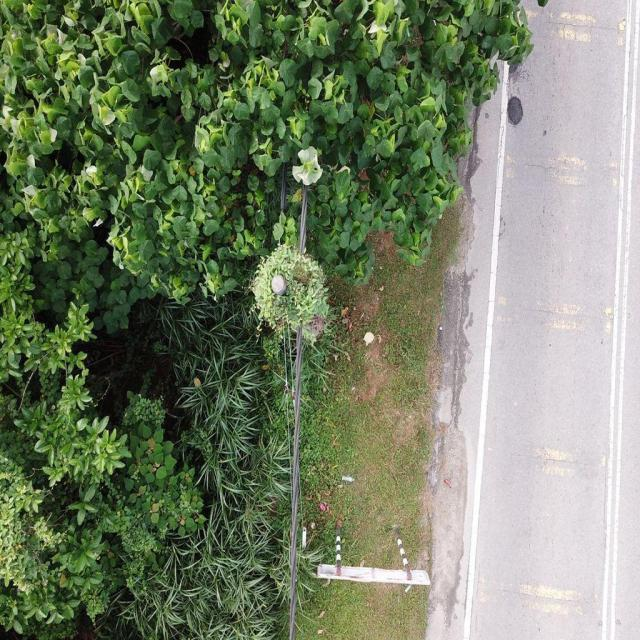critical vegetation: (245, 239, 331, 345)
